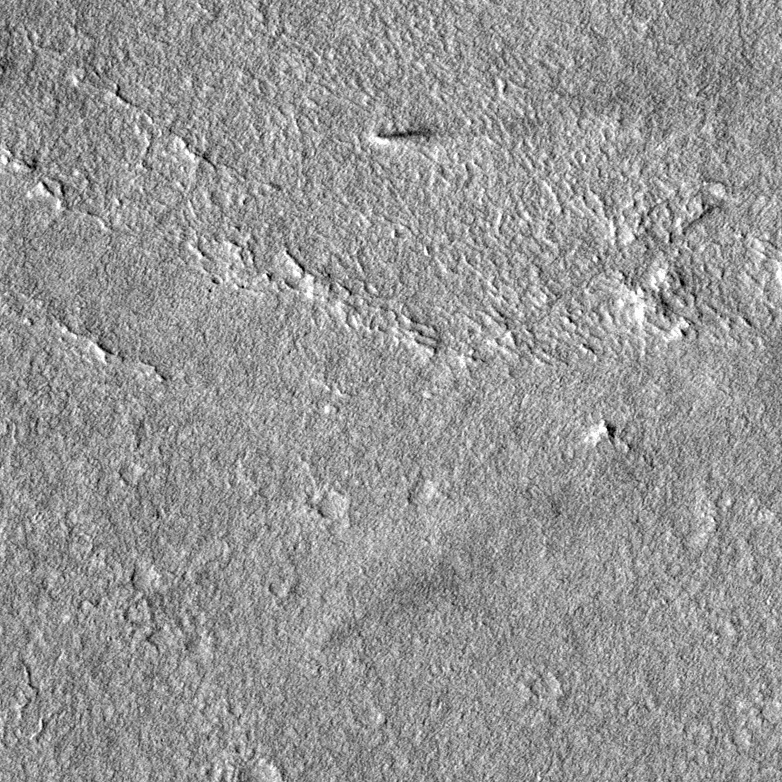dust_devil: (367, 124, 436, 148)
